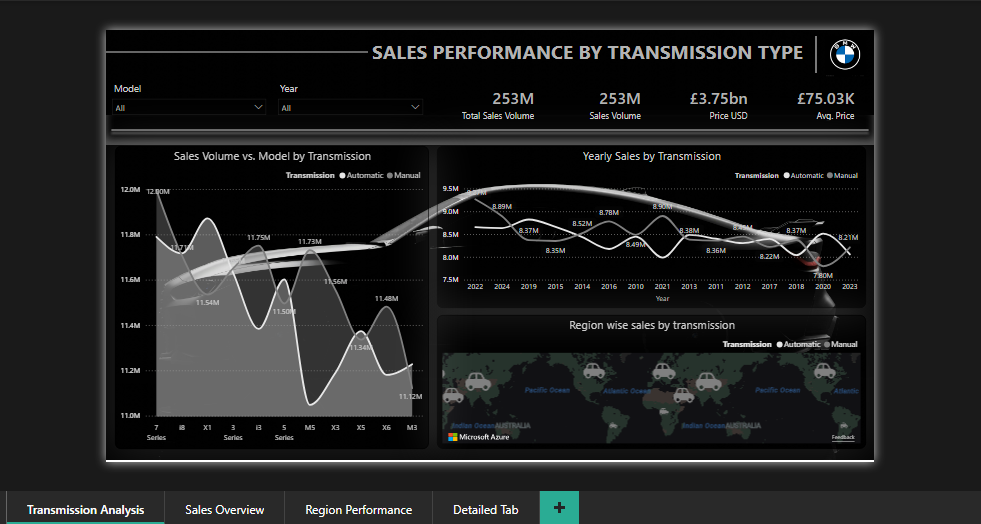

This screenshot's page, from the dashboard's own definition file:
{"tool":"powerbi","page":{"name":"Transmission Analysis","canvas":[1280,720],"ordinal":0},"visuals":[{"type":"lineChart","title":"Yearly Sales by Transmission","fields":{"Category":["BMW sales data (2010-2024).Year"],"Y":["Sum(BMW sales data (2010-2024).Sales_Volume)"],"Series":["BMW sales data (2010-2024).Transmission"]},"box":[551.7,193.3,715,270],"z":0},{"type":"azureMap","title":"Region wise sales by transmission","fields":{"Y":["Sum(BMW sales data (2010-2024).Sales_Volume)"],"Category":["BMW sales data (2010-2024).Region"],"Size":["Sum(BMW sales data (2010-2024).Sales_Volume)"],"Series":["BMW sales data (2010-2024).Transmission"]},"box":[551.7,475,715,223.3],"z":1000},{"type":"slicer","title":"Sales by Region","fields":{"Values":["BMW sales data (2010-2024).Model"]},"box":[0,81.7,276.7,86.7],"z":2000},{"type":"slicer","title":"Sales by Region","fields":{"Values":["BMW sales data (2010-2024).Year"]},"box":[276.2,82.3,261.6,85.2],"z":3000},{"type":"cardVisual","title":"Sales by Region","fields":{"Data":["BMW sales data (2010-2024).Total Sales Volume","Sum(BMW sales data (2010-2024).Sales_Volume)","Sum(BMW sales data (2010-2024).Price_USD)","BMW sales data (2010-2024).Average Price"]},"box":[538.3,81.7,741.7,86.7],"z":4000},{"type":"textbox","box":[0,0,1166.7,71.7],"z":5000},{"type":"areaChart","title":"Sales Volume vs. Model by Transmission","fields":{"Category":["BMW sales data (2010-2024).Model"],"Y":["Sum(BMW sales data (2010-2024).Sales_Volume)"],"Series":["BMW sales data (2010-2024).Transmission"]},"box":[15,193.3,523.3,505],"z":6000},{"type":"shape","box":[0,141.7,1280,50],"z":7000},{"type":"shape","box":[1128.3,10,110,61.7],"z":8000},{"type":"image","box":[1183.3,10,96.7,66.7],"z":9000},{"type":"shape","box":[0,11.7,436.7,50],"z":10000}]}

Visuals, with their boxes on the page's 1280x720 design canvas (x1, y1, x2, y2). These are canvas units, not pixel positions in the 981x524 screenshot, which may show the page scaled, cropped or inside an application window:
"Yearly Sales by Transmission" lineChart: bbox=[552, 193, 1267, 463]
"Region wise sales by transmission" azureMap: bbox=[552, 475, 1267, 698]
"Sales by Region" slicer: bbox=[0, 82, 277, 168]
"Sales by Region" slicer: bbox=[276, 82, 538, 168]
"Sales by Region" cardVisual: bbox=[538, 82, 1280, 168]
textbox: bbox=[0, 0, 1167, 72]
"Sales Volume vs. Model by Transmission" areaChart: bbox=[15, 193, 538, 698]
shape: bbox=[0, 142, 1280, 192]
shape: bbox=[1128, 10, 1238, 72]
image: bbox=[1183, 10, 1280, 77]
shape: bbox=[0, 12, 437, 62]
